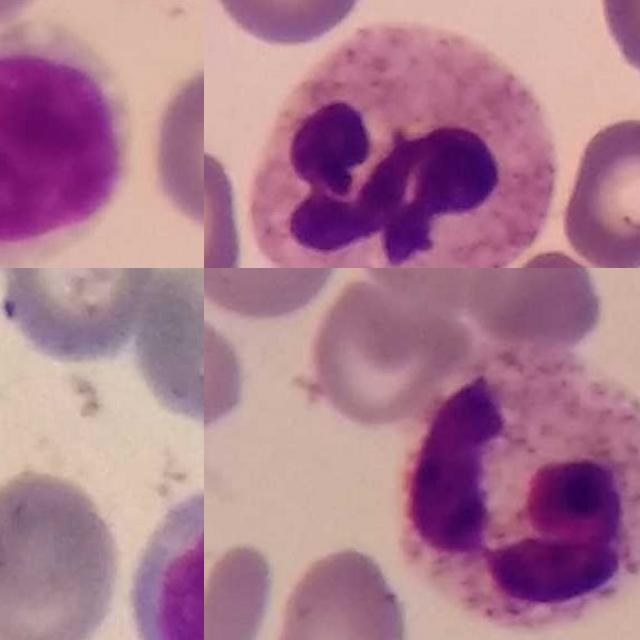Lymphocyte: (0, 20, 138, 268), (129, 486, 204, 640)
Neutrophil: (254, 24, 556, 268), (404, 355, 640, 630)
